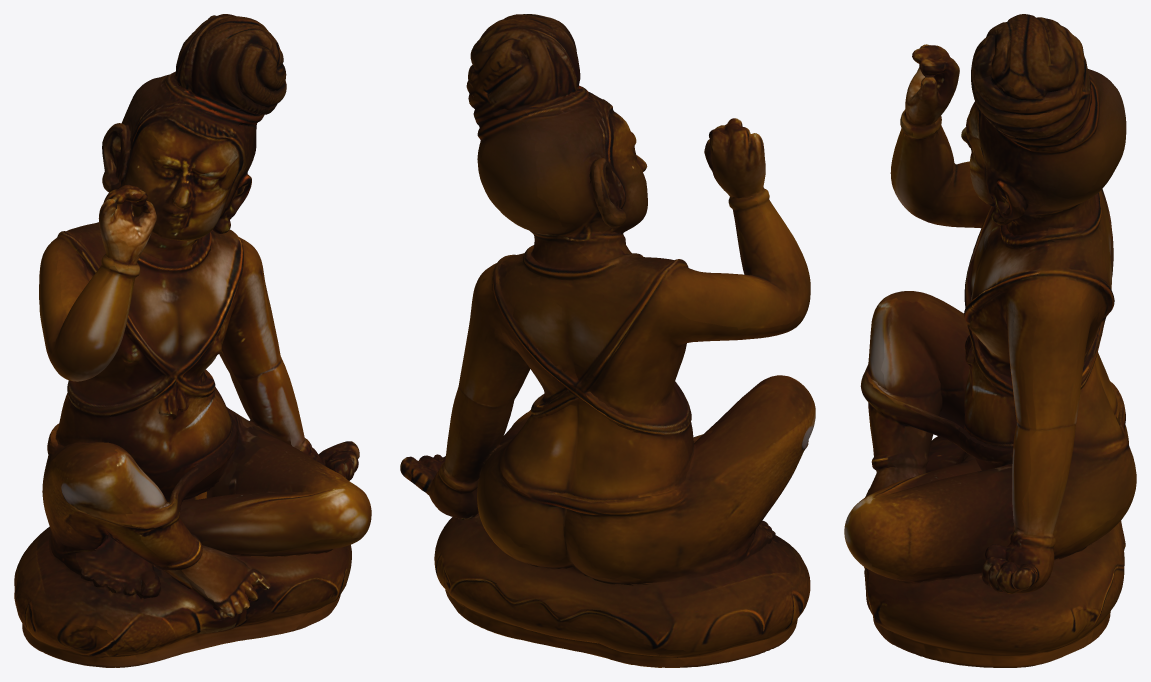
3 renders of one model, left to right at view 1: azimuth 30°, elevation 25°; view 2: azimuth 150°, elevation 25°; view 3: azimuth 270°, elevation 25°, orthographic. The views are drawn at different scales.
Parts seen in each view (by area): view 1: textured_mesh; view 2: textured_mesh; view 3: textured_mesh.
Boxes of the visible parts, x1,y1,x2,y2 form: textured_mesh: (14,14,371,667); textured_mesh: (400,14,815,667); textured_mesh: (844,14,1136,667).
Bounding box in the file's own units: 1.32 × 1.99 × 0.8732.
1 material, 1 textured.
